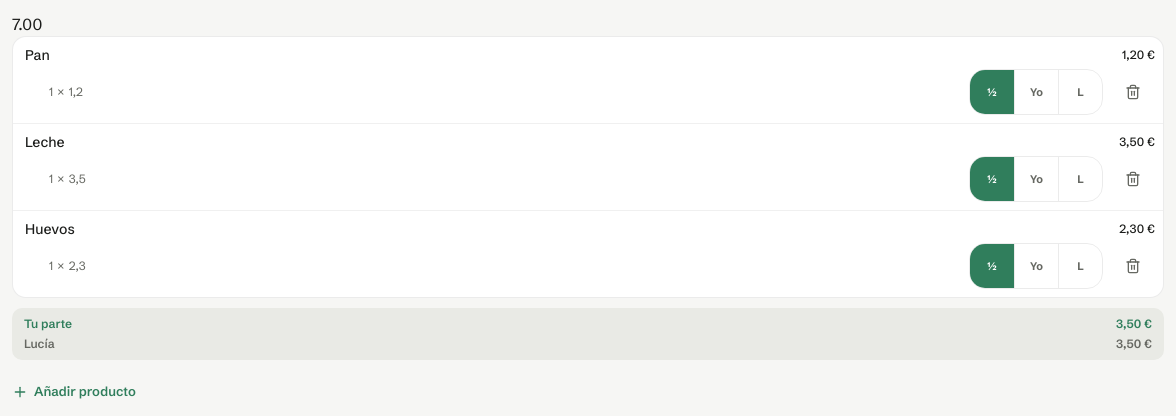
Test: ReceiptItemsEditor › deleting a line says what the total drops to and Deshacer restores the line and the total
This screenshot has width=1176, height=416.
Click the button named "Eliminar producto 2". click: (1133, 179)
box: top-left (1111, 157), bottom-right (1155, 201)
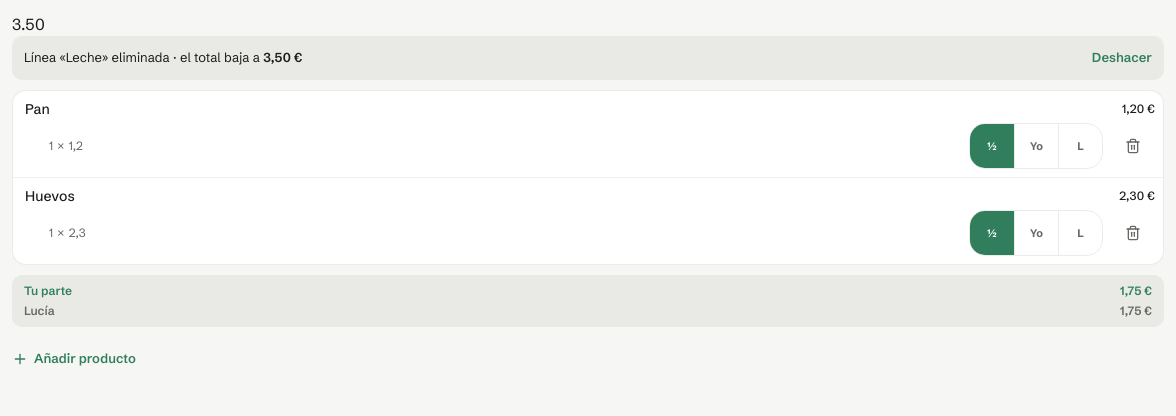
Result: the text with test id "total" reads "3.50" at top-left (12, 14), bottom-right (45, 34)
Result: the element with test id "receipt-line-removed" reads "Línea «Leche» eliminada · el total baja a 3,50 € Deshacer" at top-left (12, 36), bottom-right (1164, 80)
Click the button "Deshacer". click: (1122, 58)
box: top-left (1080, 36), bottom-right (1164, 80)
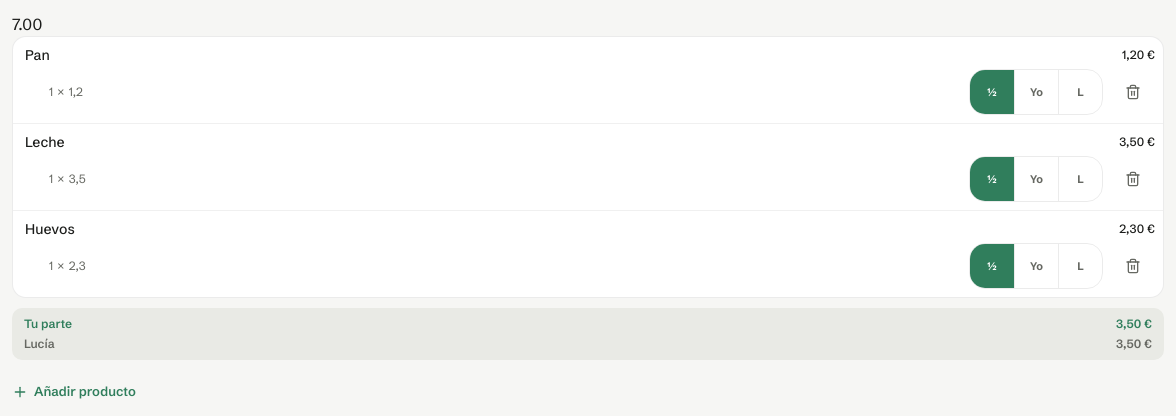
Result: the text with test id "total" reads "7.00" at top-left (12, 14), bottom-right (42, 34)
Result: the element with test id "receipt-line-removed" is gone
